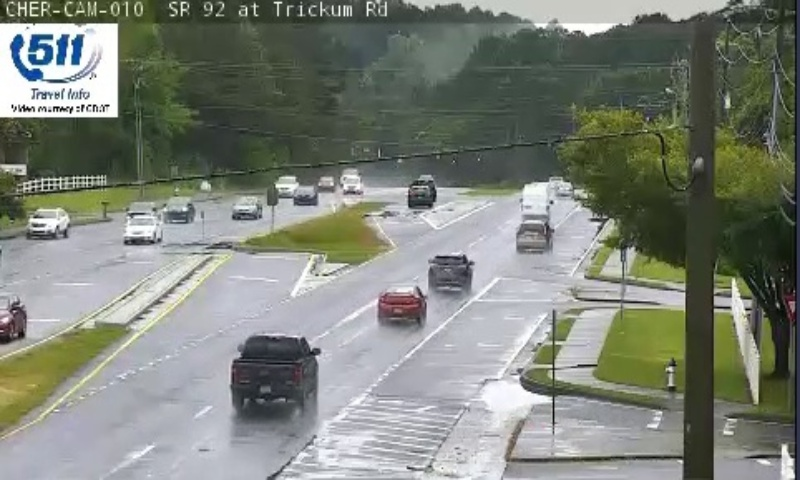car: (230, 333, 317, 400), (378, 286, 426, 319), (429, 252, 470, 288), (516, 218, 552, 252)
van: (520, 184, 552, 216)
